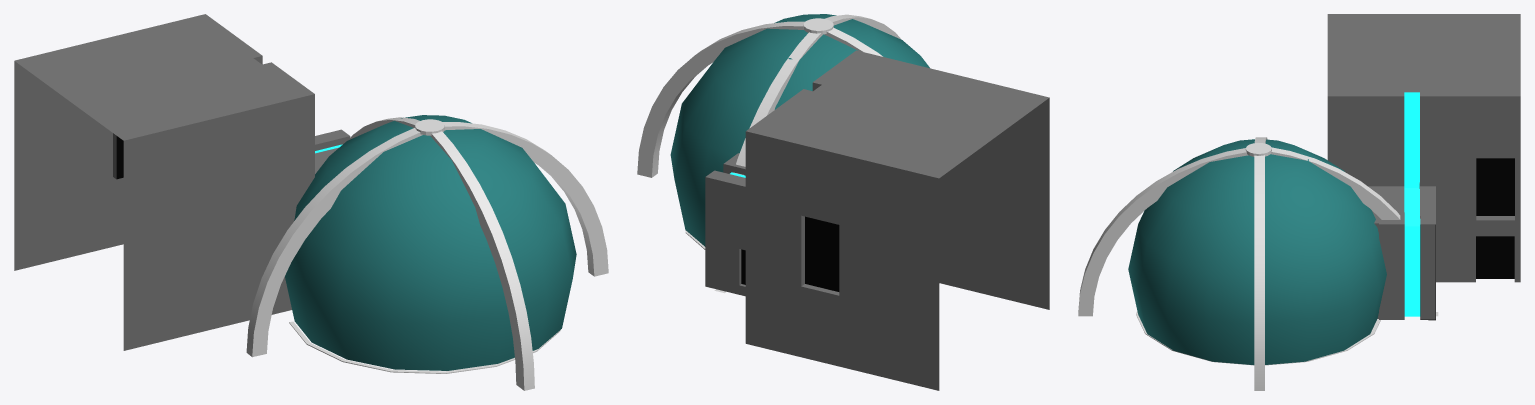
Rendered from HousePhase3.fbx.
3 renders of one model, left to right at view 1: azimuth 30°, elevation 25°; view 2: azimuth 150°, elevation 25°; view 3: azimuth 270°, elevation 25°, orthographic. The views are drawn at different scales.
Visible parts, largest first — view 1: Box001, Sphere001, Box004, Box003, Box002, Cylinder001; view 2: Box001, Sphere001, Box002, Box005, Box003, Box004, Cylinder002; view 3: Box001, Sphere001, Box003, Box002, Box005, Cylinder001.
Part boxes in pixels (bbox=[...]): Box001: bbox=[14, 14, 350, 350]; Sphere001: bbox=[285, 115, 576, 370]; Box004: bbox=[246, 128, 422, 357]; Box003: bbox=[430, 131, 534, 390]; Box002: bbox=[443, 122, 608, 276]; Cylinder001: bbox=[289, 321, 560, 373]; Box001: bbox=[705, 50, 1049, 390]; Sphere001: bbox=[670, 14, 929, 246]; Box002: bbox=[637, 21, 804, 177]; Box005: bbox=[714, 32, 822, 293]; Box003: bbox=[824, 14, 901, 39]; Box004: bbox=[824, 27, 882, 56]; Cylinder002: bbox=[803, 18, 833, 34]; Box001: bbox=[1327, 14, 1520, 320]; Sphere001: bbox=[1128, 139, 1386, 365]; Box003: bbox=[1078, 148, 1248, 316]; Box002: bbox=[1254, 155, 1264, 390]; Box005: bbox=[1271, 147, 1438, 316]; Cylinder001: bbox=[1136, 311, 1380, 365].
Bounding box in the file's own units: 132 × 129 × 59.81.
